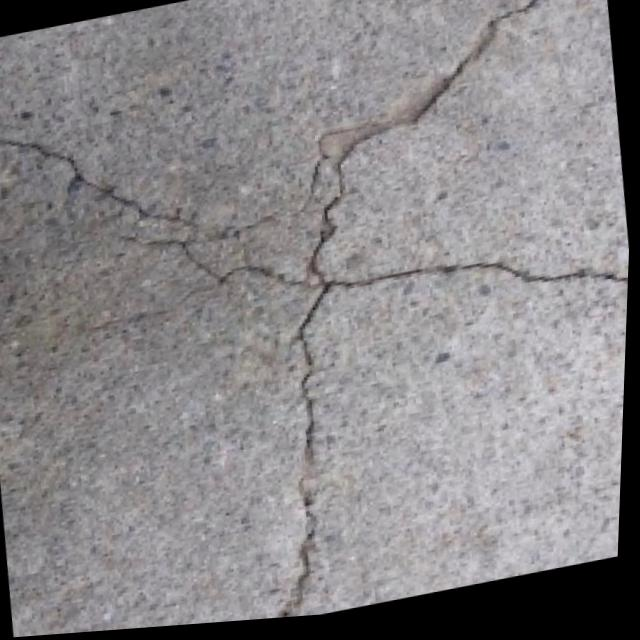Crack: (163, 0, 640, 629), (0, 0, 639, 454)
